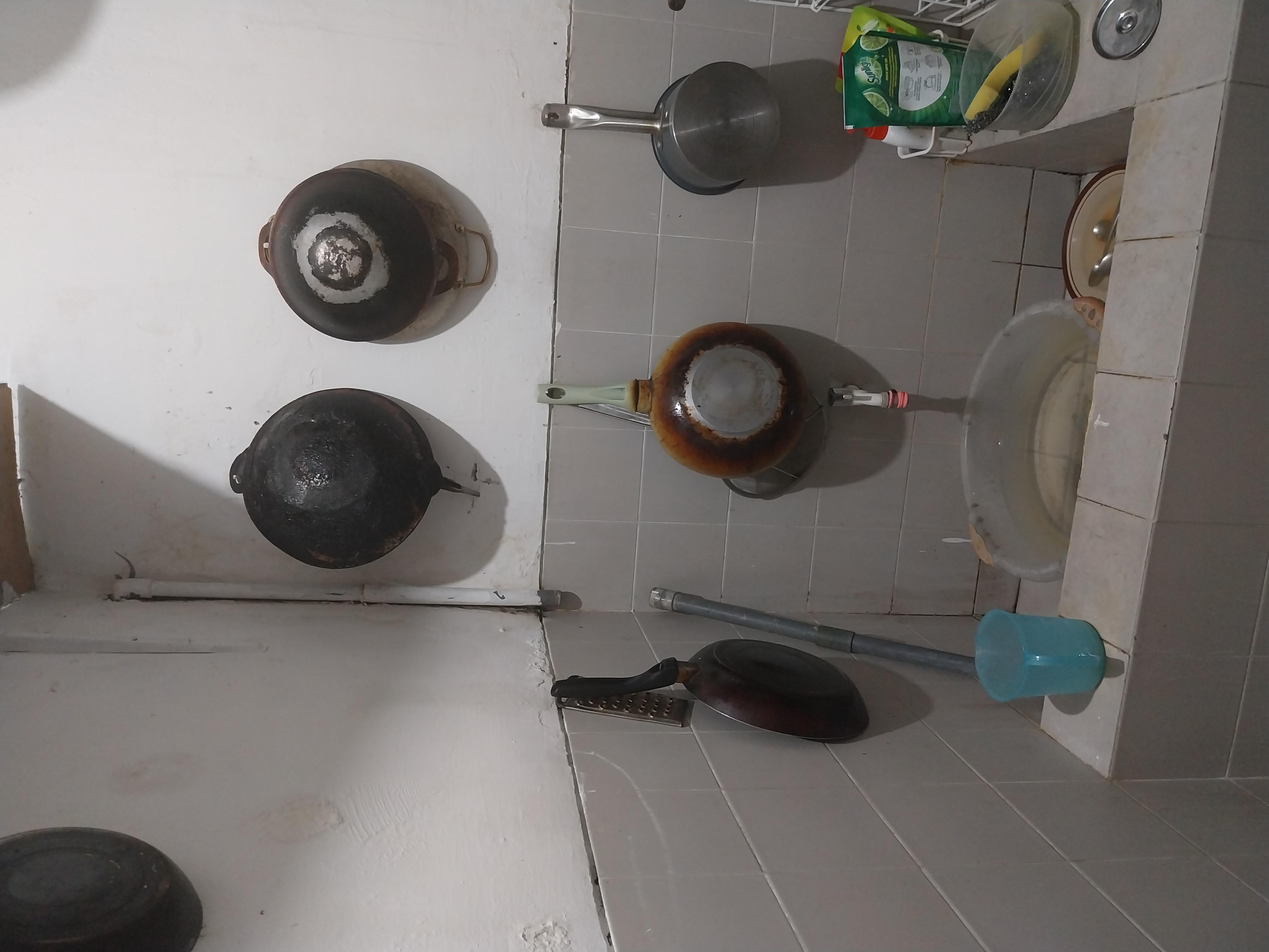pan: (597, 400, 927, 625), (462, 157, 811, 359), (767, 175, 1091, 356), (980, 403, 1269, 601), (270, 413, 458, 658), (0, 0, 165, 151)
plate: (867, 791, 1060, 845)
